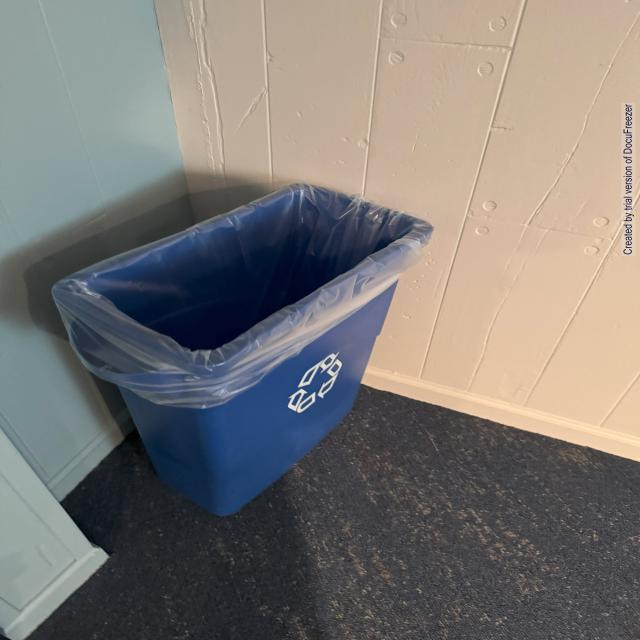Trash bin: (51, 179, 433, 521)
